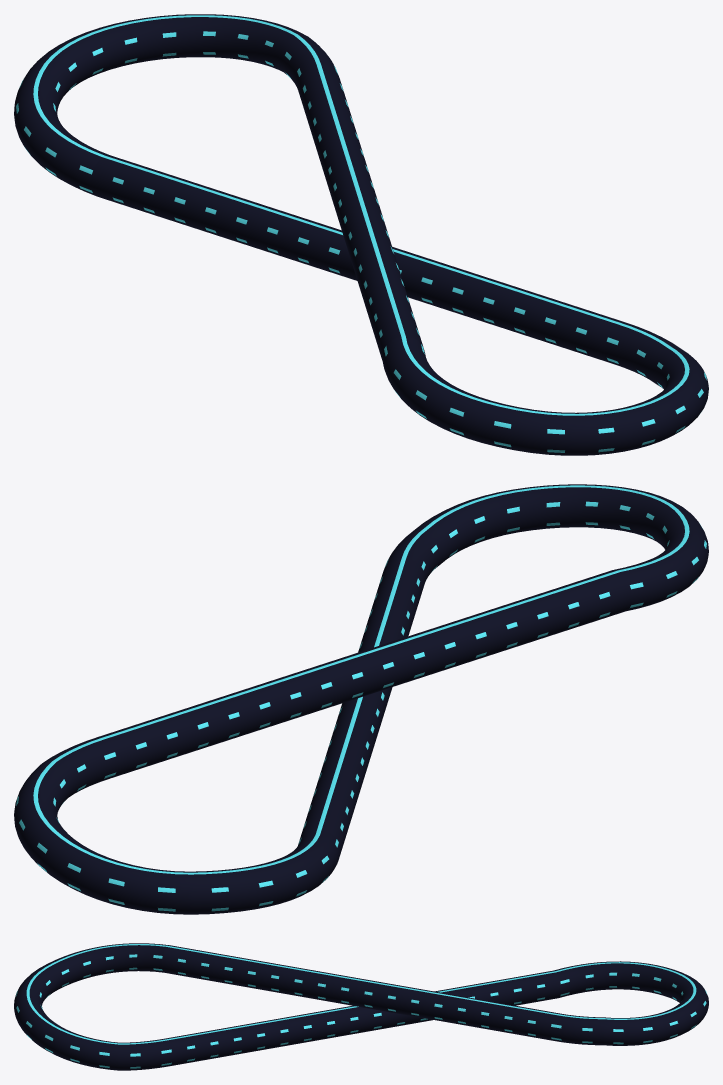
Rendered from Infinity.FBX.
3 views of the same model, one above another, from view 1: azimuth 30°, elevation 25°; view 2: azimuth 150°, elevation 25°; view 3: azimuth 270°, elevation 25° (orthographic). The views are drawn at different scales.
Parts seen in each view (by area): view 1: Infinity; view 2: Infinity; view 3: Infinity.
Boxes of the visible parts, x1,y1,x2,y2 form: Infinity: [14, 14, 708, 455]; Infinity: [14, 484, 708, 914]; Infinity: [14, 943, 708, 1070].
Size of the model in its own units: 7498 by 1997 by 24769.
